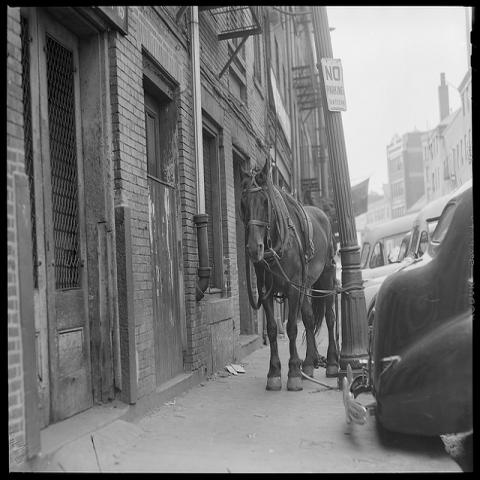car: (376, 173, 475, 391), (359, 214, 425, 312), (397, 191, 457, 271)
